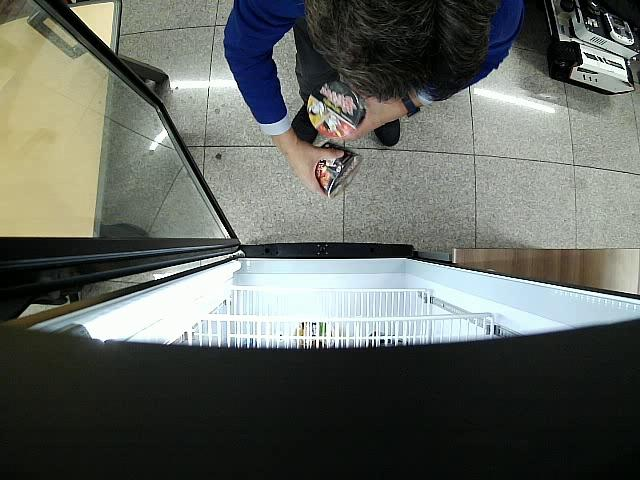00_hand: (287, 141, 344, 195), (347, 98, 396, 140)
07_buldak_L: (308, 84, 366, 136), (315, 141, 362, 197)
